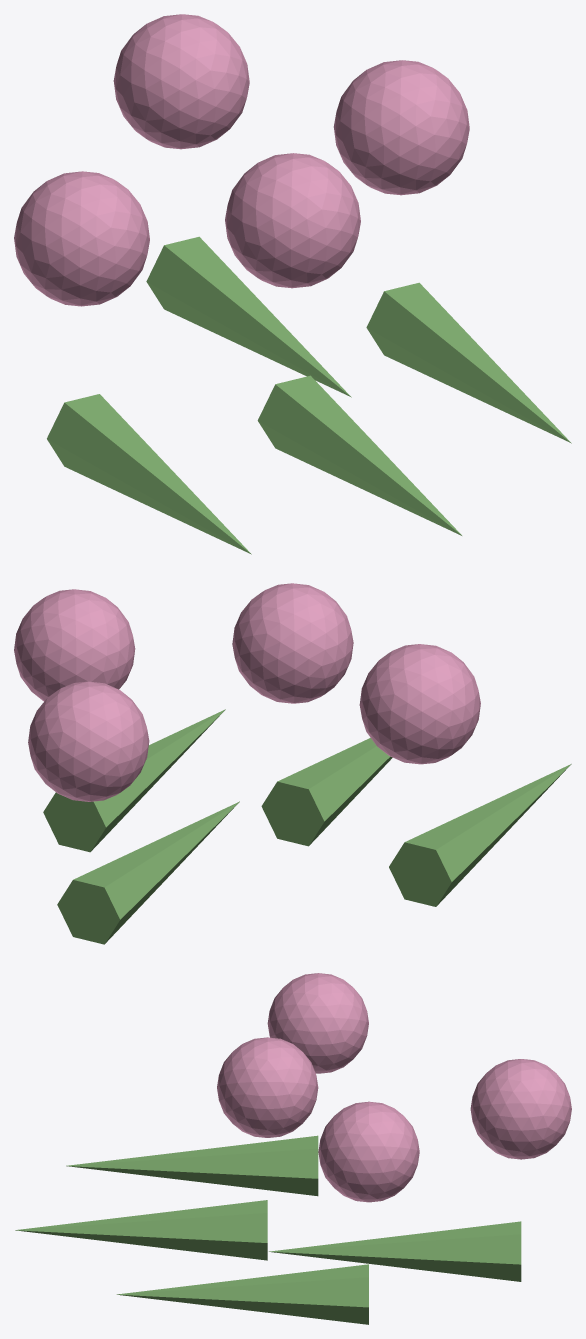
The model's file is flower_patch.glb.
3 views of the same model, one above another, from view 1: azimuth 30°, elevation 25°; view 2: azimuth 150°, elevation 25°; view 3: azimuth 270°, elevation 25° (orthographic). The views are drawn at different scales.
Visible parts, largest first — view 1: world; view 2: world; view 3: world.
Part boxes in pixels (bbox=[...]): world: bbox=[14, 14, 571, 554]; world: bbox=[14, 583, 571, 944]; world: bbox=[15, 973, 571, 1324].
Bounding box in the file's own units: 0.4 × 0.231 × 0.55.
